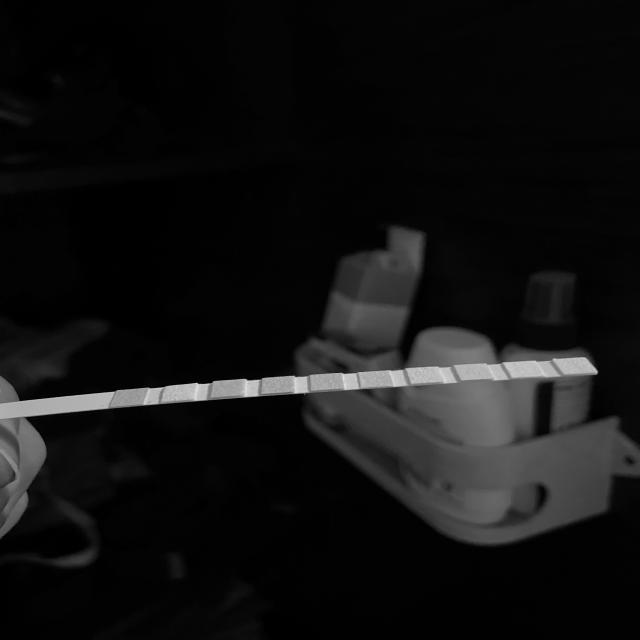Bilirubin: (166, 387, 194, 399)
Blood: (310, 375, 342, 389)
Glucose: (116, 391, 144, 404)
Ketone: (214, 381, 244, 396)
Leukocytes: (563, 359, 585, 372)
Nitrite: (510, 362, 535, 376)
Protein: (411, 368, 438, 383)
SpGravity: (262, 378, 294, 392)
Urobilinogen: (462, 364, 486, 378)
background: (0, 0, 640, 640)
pH: (360, 372, 390, 387)
strip: (0, 358, 595, 419)
